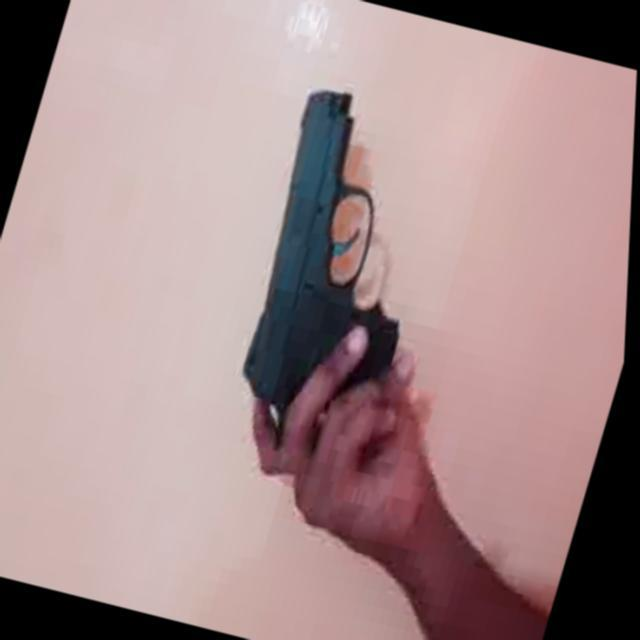weapon: (208, 80, 468, 477)
